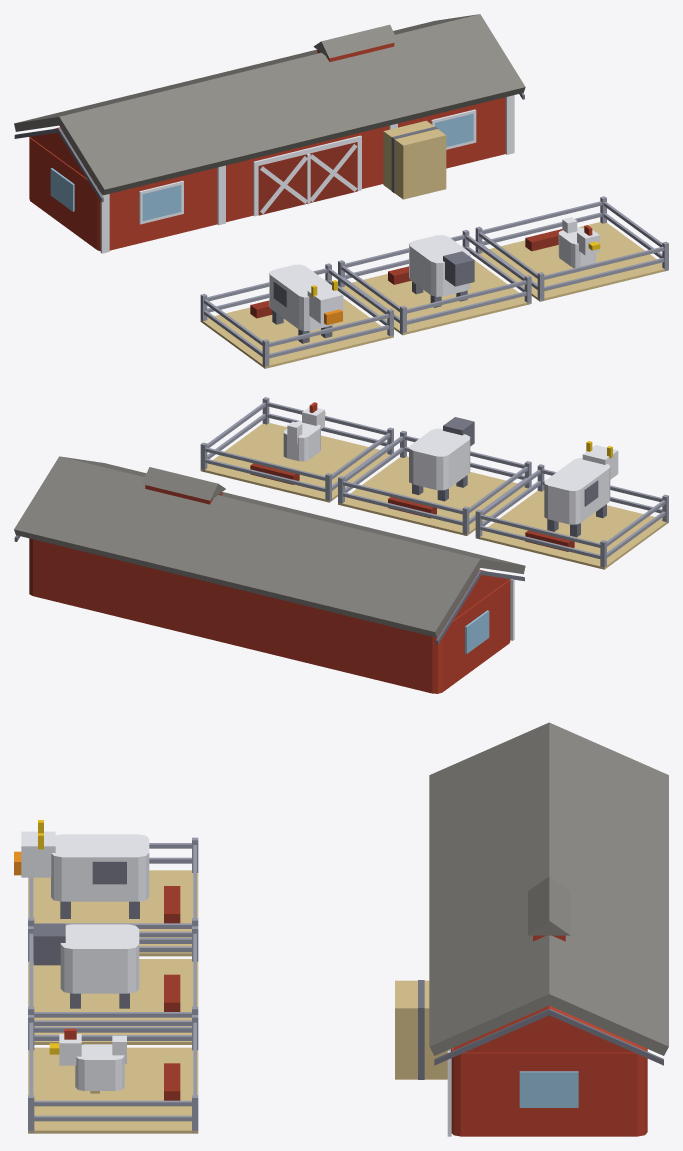
The model's file is livestock-farm-2x2-t3-tone-a.glb.
The picture shows the model from 3 angles, top to bottom: view 1: azimuth 30°, elevation 25°; view 2: azimuth 150°, elevation 25°; view 3: azimuth 270°, elevation 25°; orthographic projection. The views are drawn at different scales.
Parts seen in each view (by area): view 1: livestock-farm-2x2-t3-tone-a; view 2: livestock-farm-2x2-t3-tone-a; view 3: livestock-farm-2x2-t3-tone-a.
Boxes of the visible parts, box(x1,y1,x2,y2) form: livestock-farm-2x2-t3-tone-a: box(14, 14, 668, 368); livestock-farm-2x2-t3-tone-a: box(14, 397, 668, 693); livestock-farm-2x2-t3-tone-a: box(14, 722, 668, 1136).
Size of the model in its own units: 1.97 by 0.54 by 2.
Materials: 1 (1 with a texture image).
